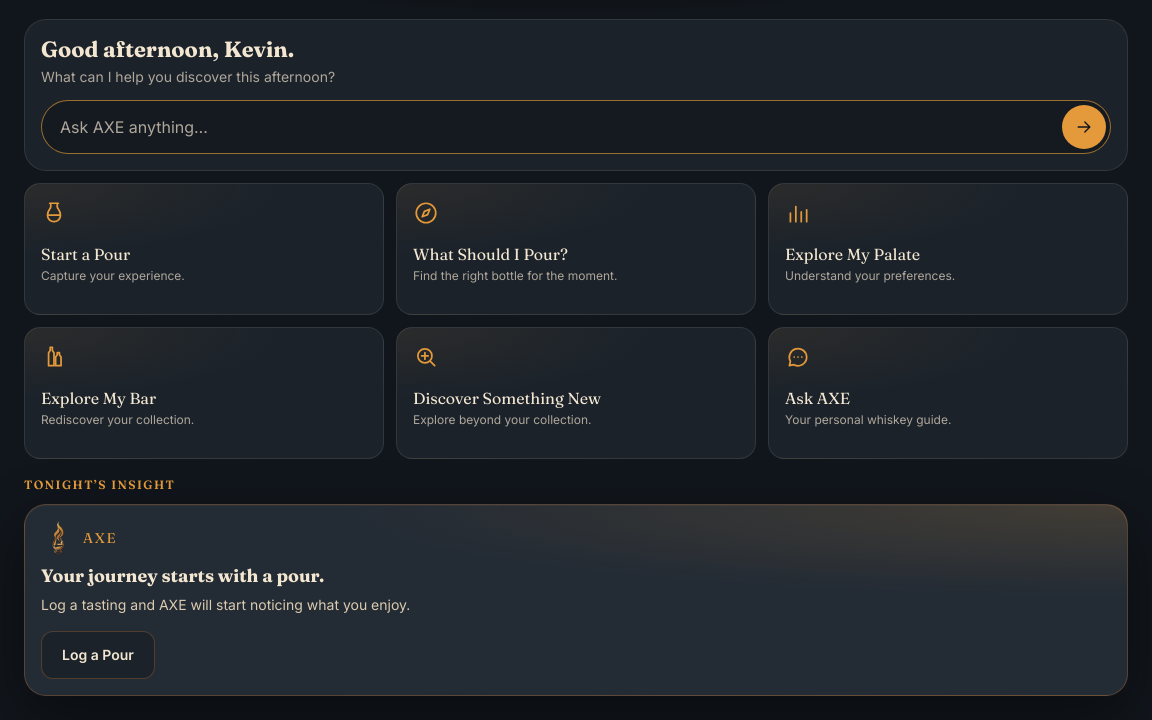
Test: AxeHubPage › What Should I Pour? opens the existing mood picker
(page scrolled)
Step 1. Click the button "What Should I Pour? Find the right bottle for the moment." → (490, 254), box [396,183,756,315]
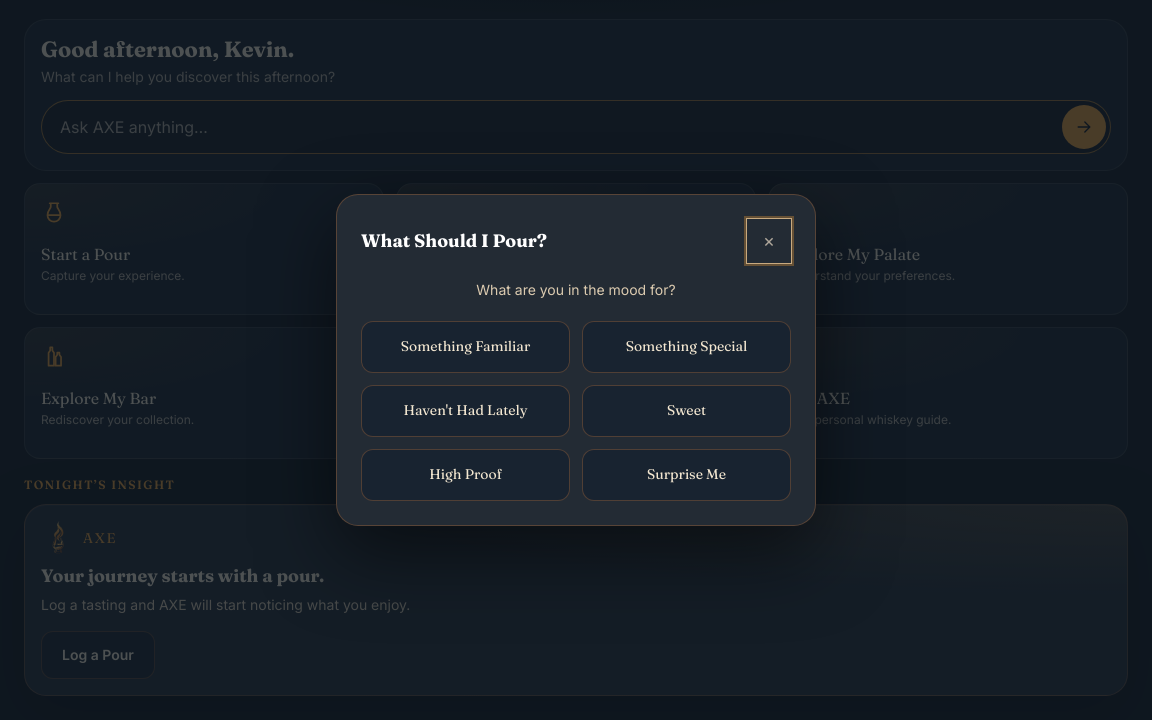
Check: the heading "What Should I Pour?" is shown, box [361,232,547,251]
